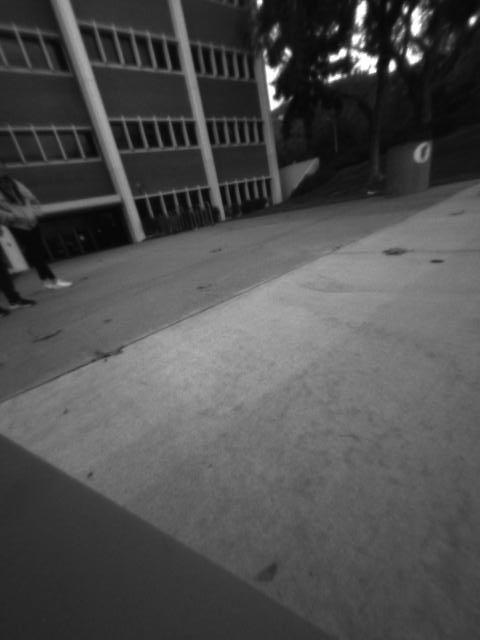trashcan: (380, 129, 434, 200)
